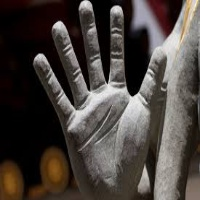ring: (48, 15, 91, 101)
